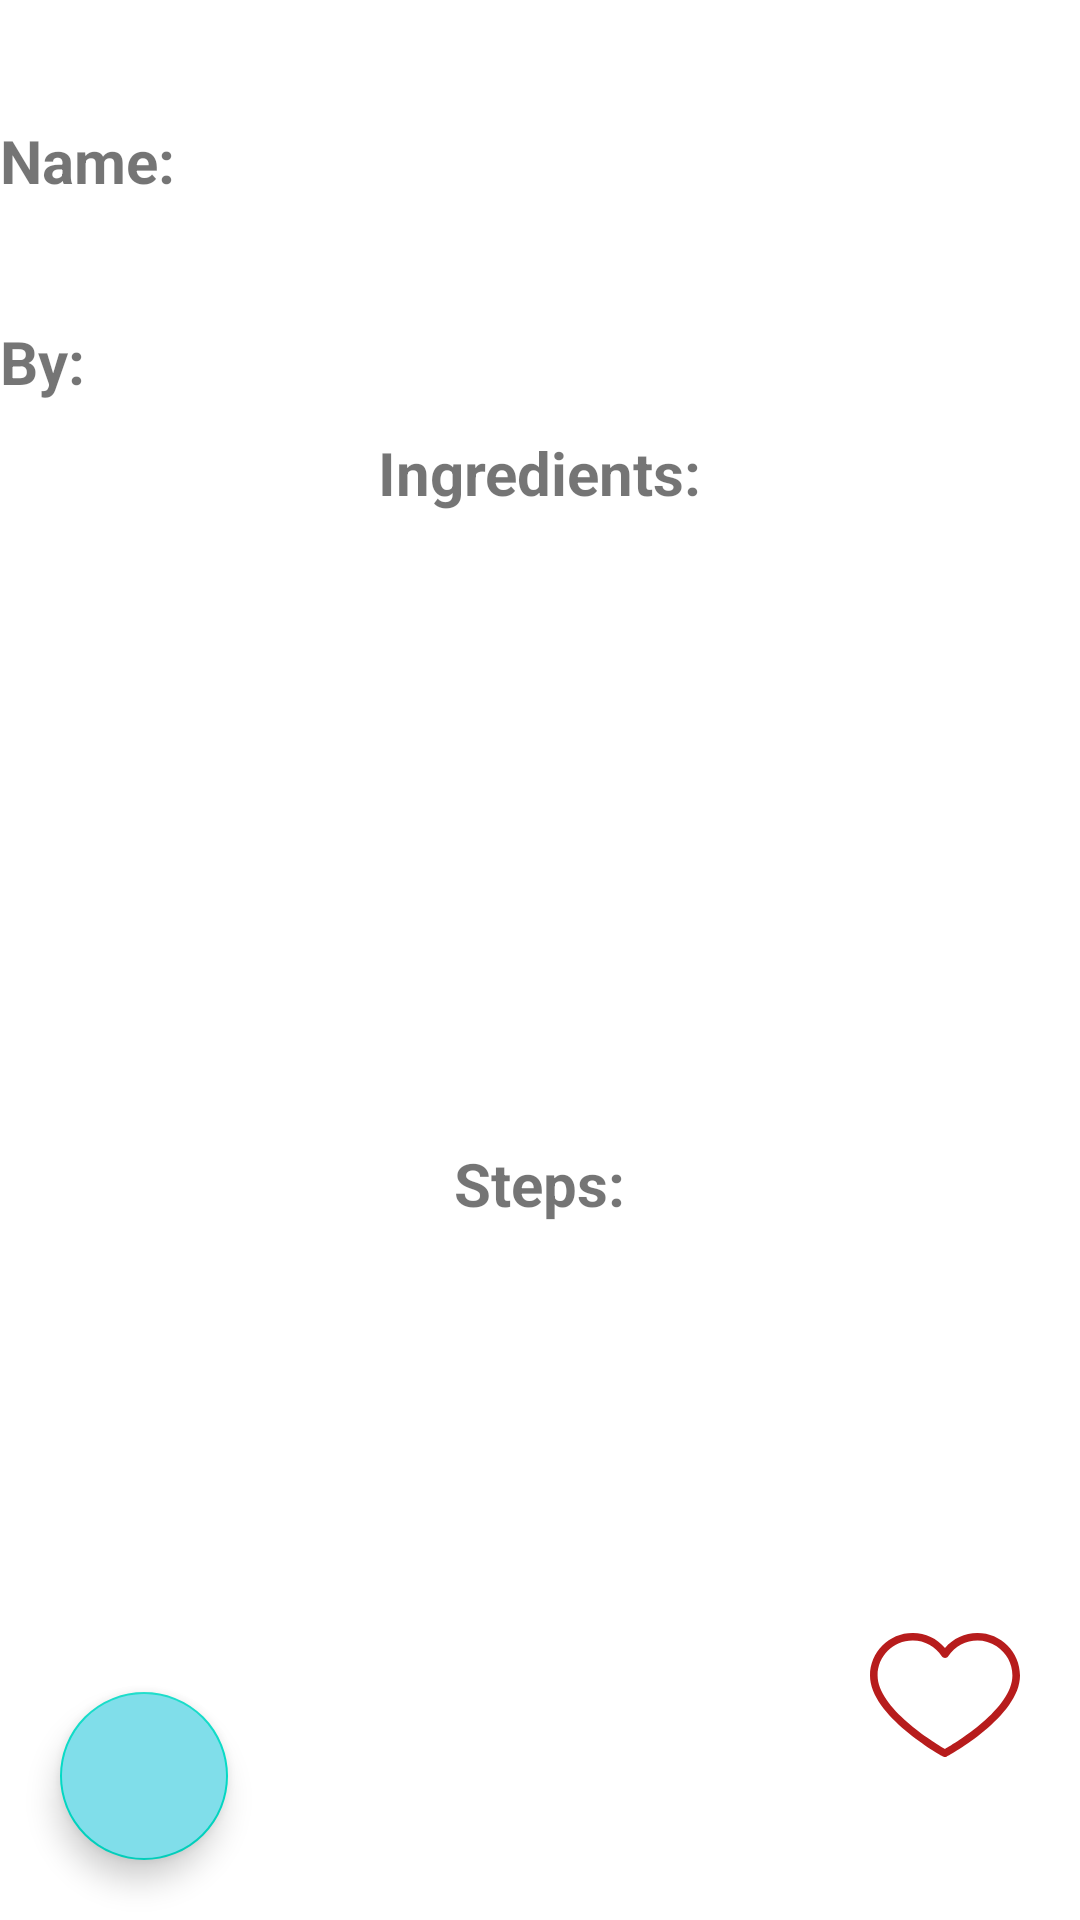

Screen size 1080×1920. Icon name, then its center in pixels as [x,y]:
empty heart: [945,1695]
